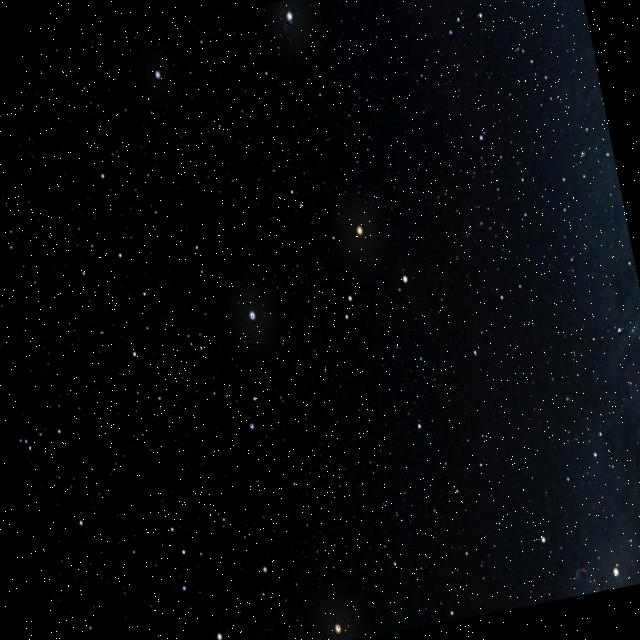Pegasus: (141, 0, 528, 640)
